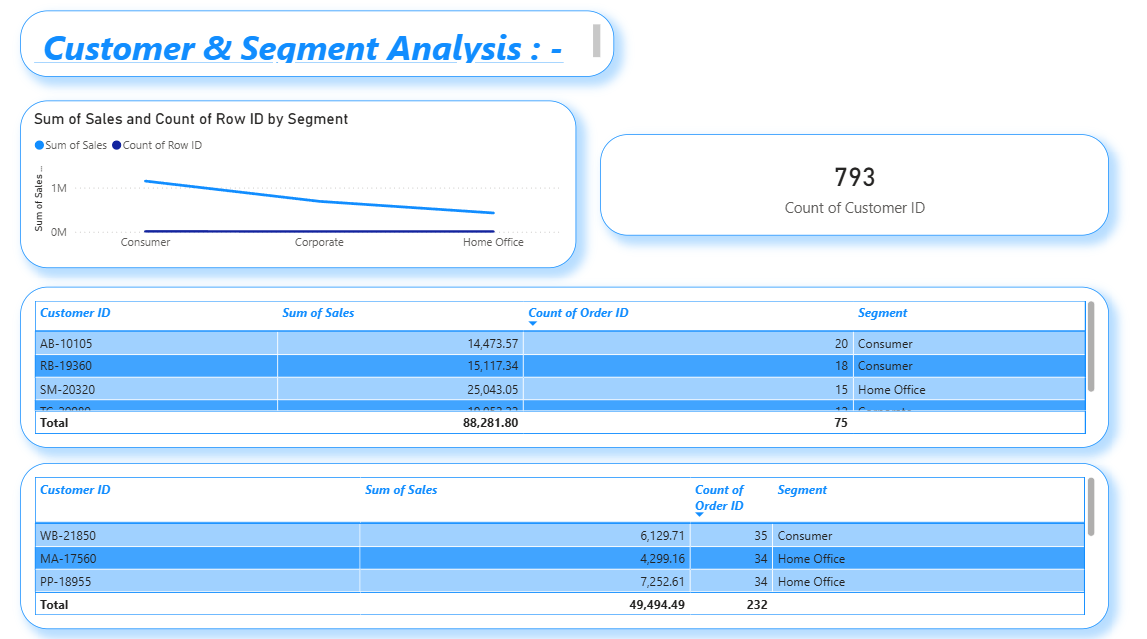

Layout of this report page (visuals, bound fields, positions):
{"tool":"powerbi","page":{"name":"Page 7","canvas":[1280,720],"ordinal":6},"visuals":[{"type":"textbox","box":[34.3,19.2,651.8,72.7],"z":0},{"type":"lineChart","fields":{"Category":["train.Segment"],"Y":["Sum(train.Sales)","CountNonNull(train.Row ID)"]},"box":[34.3,118,610.6,183.9],"z":1000},{"type":"tableEx","fields":{"Values":["train.Customer ID","Sum(train.Sales)","CountNonNull(train.Order ID)","train.Segment"]},"box":[34.3,322.5,1195.2,177],"z":2000},{"type":"tableEx","fields":{"Values":["train.Customer ID","Sum(train.Sales)","train.Order ID","train.Segment"]},"box":[34.3,516,1195.2,182.5],"z":3000},{"type":"card","fields":{"Values":["Count(train.Customer ID)"]},"box":[671,155.1,558.5,111.1],"z":4000}]}

Visuals, with their boxes in screenshot pixels (x1, y1, x2, y2), scaled from the page's 1280x720 canvas onto the 1147x639 screenshot:
textbox: pyautogui.locateOnScreen(31, 17, 615, 82)
lineChart - train.Segment x Sum(train.Sales): pyautogui.locateOnScreen(31, 105, 578, 268)
tableEx - train.Customer ID x Sum(train.Sales): pyautogui.locateOnScreen(31, 286, 1102, 443)
tableEx - train.Customer ID x Sum(train.Sales): pyautogui.locateOnScreen(31, 458, 1102, 620)
card - Count(train.Customer ID): pyautogui.locateOnScreen(601, 138, 1102, 236)
